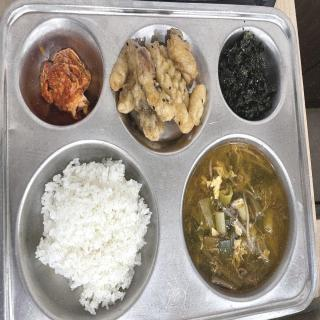Nasi: (29, 159, 150, 317)
